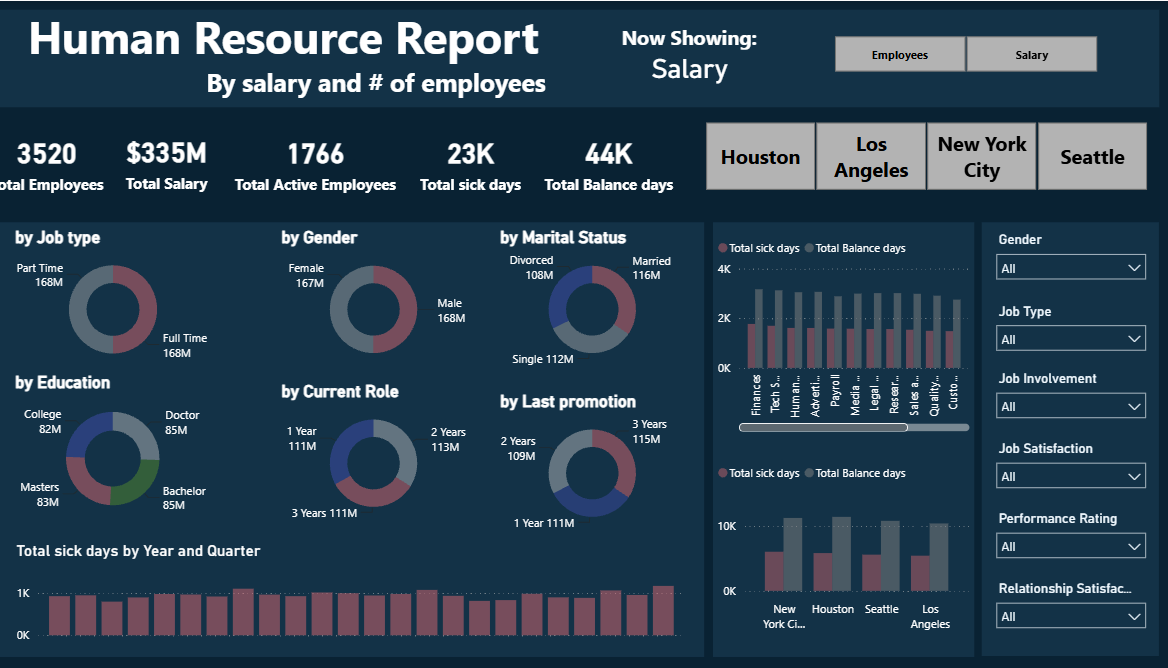

This screenshot's page, from the dashboard's own definition file:
{"tool":"powerbi","page":{"name":"Page 1","canvas":[1280,720],"ordinal":0},"visuals":[{"type":"textbox","box":[48.1,0,566.9,124.9],"z":0,"group":"g1"},{"type":"card","fields":{"Values":["aMeasure.Total Employees"]},"box":[0,124.9,148.2,96.1],"z":0,"group":"g5"},{"type":"shape","title":"Chart Shape","box":[789.9,237.8,280.8,467.5],"z":0},{"type":"donutChart","title":"by Marital Status","fields":{"Category":["Human Resources.Marital Status"],"Y":["aMeasure.Selected Value"]},"box":[556,243.2,208.4,156.2],"z":0,"group":"g2"},{"type":"clusteredColumnChart","fields":{"Y":["aMeasure.Total sick days","aMeasure.Total Balance days"],"Category":["Human Resources.Departmets"]},"box":[789.9,245.8,280.8,221.7],"z":0,"group":"g4"},{"type":"slicer","fields":{"Values":["Human Resources.Job Type"]},"box":[1084.1,319.8,181.4,72.5],"z":0,"group":"g3"},{"type":"shape","title":"Heading shape","box":[12.1,9.4,1257.4,104.8],"z":1000},{"type":"slicer","fields":{"Values":["Mertics.Measure"]},"box":[894.7,31.6,332.1,52.1],"z":1000,"group":"g1"},{"type":"card","fields":{"Values":["aMeasure.Total Salary"]},"box":[138.6,123.5,129,96.1],"z":1000,"group":"g5"},{"type":"slicer","fields":{"Values":["Human Resources.Gender"]},"box":[1084.1,243.2,181.4,76.6],"z":1000,"group":"g3"},{"type":"donutChart","title":"by Last promotion","fields":{"Y":["aMeasure.Selected Value"],"Category":["Human Resources.Years since last promition"]},"box":[556,418.8,208.4,156.2],"z":1000,"group":"g2"},{"type":"clusteredColumnChart","fields":{"Y":["aMeasure.Total sick days","aMeasure.Total Balance days"],"Category":["Human Resources.Business Unit"]},"box":[789.9,487.7,280.8,197.5],"z":1000,"group":"g4"},{"type":"card","fields":{"Values":["aMeasure.Selection"]},"box":[662.7,45.3,203.1,50.8],"z":2000,"group":"g1"},{"type":"card","fields":{"Values":["aMeasure.Total Active Employees"]},"box":[267.6,124.9,190.7,96.1],"z":2000,"group":"g5"},{"type":"shape","title":"Donut shape","box":[22.8,237.8,757.7,467.5],"z":2000},{"type":"shape","box":[1078.8,238,190.8,466.2],"z":2000,"group":"g4"},{"type":"slicer","fields":{"Values":["Human Resources.Job Involvement"]},"box":[1084.1,392.3,181.4,75.2],"z":2000,"group":"g3"},{"type":"donutChart","title":"by Current Role","fields":{"Y":["aMeasure.Selected Value"],"Category":["Human Resources.Years in current role"]},"box":[321.5,409.1,208.4,156.2],"z":2000,"group":"g2"},{"type":"group","id":"g1","title":"Heading Group","box":[48.1,0,1178.6,124.9],"z":3000},{"type":"textbox","box":[686.1,19.2,208.6,38.4],"z":3000,"group":"g1"},{"type":"card","fields":{"Values":["aMeasure.Total sick days"]},"box":[458.3,124.9,142.7,96.1],"z":3000,"group":"g5"},{"type":"donutChart","title":"by Education","fields":{"Y":["aMeasure.Selected Value"],"Category":["Human Resources.Education"]},"box":[35.5,399.1,220.2,165.1],"z":3000,"group":"g2"},{"type":"slicer","fields":{"Values":["Human Resources.Job Satisfaction"]},"box":[1084.1,467.6,181.4,75.2],"z":3000,"group":"g3"},{"type":"card","fields":{"Values":["aMeasure.Total Balance days"]},"box":[601,124.9,155.1,96.1],"z":4000,"group":"g5"},{"type":"group","id":"g2","title":"Donut Group","box":[34.9,243.2,729.5,331.8],"z":4000},{"type":"donutChart","title":"by Gender","fields":{"Category":["Human Resources.Gender"],"Y":["aMeasure.Selected Value"]},"box":[321.5,243.2,208.4,156.2],"z":4000,"group":"g2"},{"type":"slicer","fields":{"Values":["Human Resources.Performance Rating"]},"box":[1084.1,542.8,181.4,75.2],"z":4000,"group":"g3"},{"type":"slicer","fields":{"Values":["Human Resources.Business Unit"]},"box":[756.1,123.5,524.2,86.4],"z":5000,"group":"g5"},{"type":"donutChart","title":"by Job type","fields":{"Category":["Human Resources.Job Type"],"Y":["aMeasure.Selected Value"]},"box":[34.9,243.2,220.8,156.2],"z":5000,"group":"g2"},{"type":"group","id":"g3","title":"Slicer Group","box":[1084.1,243.2,181.4,452.7],"z":5000},{"type":"slicer","fields":{"Values":["Human Resources.Relationship Satisfaction"]},"box":[1084.1,618,181.4,77.9],"z":5000,"group":"g3"},{"type":"group","id":"g4","title":"Bar Group","box":[789.9,238,479.7,466.2],"z":6000},{"type":"group","id":"g5","title":"Card Group","box":[0,123.5,1280.3,97.4],"z":7000},{"type":"clusteredColumnChart","fields":{"Y":["aMeasure.Total sick days"],"Category":["Human Resources.Hire Date.Variation.Date Hierarchy.Year","Human Resources.Hire Date.Variation.Date Hierarchy.Quarter"]},"box":[36.3,580.4,728.1,115.5],"z":8000}]}

Visuals, with their boxes in screenshot pixels (x1, y1, x2, y2), scaled from the page's 1280x720 canvas onto the 1168x668 screenshot:
textbox: BBox(44, 0, 561, 116)
card - aMeasure.Total Employees: BBox(0, 116, 135, 205)
"Chart Shape" shape: BBox(721, 221, 977, 654)
"by Marital Status" donutChart: BBox(507, 226, 698, 371)
clusteredColumnChart - aMeasure.Total sick days x aMeasure.Total Balance days: BBox(721, 228, 977, 434)
slicer - Human Resources.Job Type: BBox(989, 297, 1155, 364)
"Heading shape" shape: BBox(11, 9, 1158, 106)
slicer - Mertics.Measure: BBox(816, 29, 1119, 78)
card - aMeasure.Total Salary: BBox(126, 115, 244, 204)
slicer - Human Resources.Gender: BBox(989, 226, 1155, 297)
"by Last promotion" donutChart: BBox(507, 389, 698, 533)
clusteredColumnChart - aMeasure.Total sick days x aMeasure.Total Balance days: BBox(721, 452, 977, 636)
card - aMeasure.Selection: BBox(605, 42, 790, 89)
card - aMeasure.Total Active Employees: BBox(244, 116, 418, 205)
"Donut shape" shape: BBox(21, 221, 712, 654)
shape: BBox(984, 221, 1159, 653)
slicer - Human Resources.Job Involvement: BBox(989, 364, 1155, 434)
"by Current Role" donutChart: BBox(293, 380, 484, 524)
"Heading Group" group: BBox(44, 0, 1119, 116)
textbox: BBox(626, 18, 816, 53)
card - aMeasure.Total sick days: BBox(418, 116, 548, 205)
"by Education" donutChart: BBox(32, 370, 233, 523)
slicer - Human Resources.Job Satisfaction: BBox(989, 434, 1155, 504)
card - aMeasure.Total Balance days: BBox(548, 116, 690, 205)
"Donut Group" group: BBox(32, 226, 698, 533)
"by Gender" donutChart: BBox(293, 226, 484, 371)
slicer - Human Resources.Performance Rating: BBox(989, 504, 1155, 573)
slicer - Human Resources.Business Unit: BBox(690, 115, 1167, 195)
"by Job type" donutChart: BBox(32, 226, 233, 371)
"Slicer Group" group: BBox(989, 226, 1155, 646)
slicer - Human Resources.Relationship Satisfaction: BBox(989, 573, 1155, 646)
"Bar Group" group: BBox(721, 221, 1159, 653)
"Card Group" group: BBox(0, 115, 1167, 205)
clusteredColumnChart - aMeasure.Total sick days x Human Resources.Hire Date.Variation.Date Hierarchy.Year: BBox(33, 538, 698, 646)
